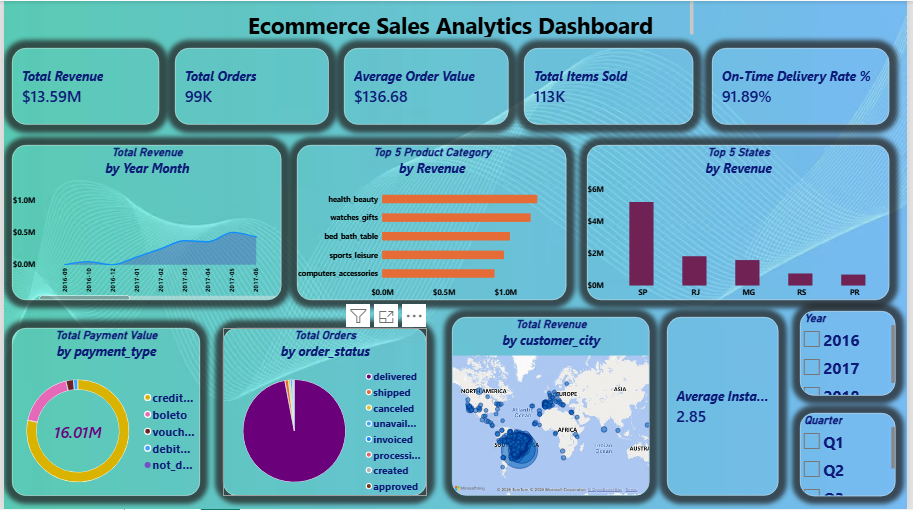

This screenshot's page, from the dashboard's own definition file:
{"tool":"powerbi","page":{"name":"Page 1","canvas":[1920,1080],"ordinal":0},"visuals":[{"type":"cardVisual","fields":{"Data":["All_Measures.Total Revenue"]},"box":[16.7,100,313.3,163.3],"z":0},{"type":"cardVisual","fields":{"Data":["All_Measures.Total Orders"]},"box":[363.3,100,326.7,163.3],"z":1000},{"type":"cardVisual","fields":{"Data":["All_Measures.Average Order Value"]},"box":[723.3,100,350,163.3],"z":2000},{"type":"cardVisual","fields":{"Data":["All_Measures.Total Items Sold"]},"box":[1106.7,100,360,163.3],"z":3000},{"type":"clusteredBarChart","title":"Top 5 Product Category","fields":{"Category":["olist_products_dataset.Product Category"],"Y":["All_Measures.Total Revenue"]},"box":[623.3,306.7,573.3,330],"z":4000},{"type":"donutChart","fields":{"Category":["olist_order_payments_dataset.payment_type"],"Y":["All_Measures.Total Payment Value"]},"box":[16.7,696.7,400,356.7],"z":5000},{"type":"pieChart","fields":{"Category":["olist_orders_dataset.order_status"],"Y":["All_Measures.Total Orders"]},"box":[466.7,696.7,433.3,356.7],"z":6000},{"type":"clusteredColumnChart","title":"Top 5 States","fields":{"Category":["olist_customers_dataset.customer_state"],"Y":["All_Measures.Total Revenue"]},"box":[1240,306.7,643.3,330],"z":7000},{"type":"cardVisual","fields":{"Data":["All_Measures.On-Time Delivery Rate %"]},"box":[1506.7,100,376.7,163.3],"z":8000},{"type":"lineChart","fields":{"Category":["Dim_Calendar.Year Month"],"Y":["All_Measures.Total Revenue"]},"box":[16.7,306.7,573.3,330],"z":9000},{"type":"map","fields":{"Category":["olist_customers_dataset.customer_city"],"Size":["All_Measures.Total Revenue"]},"box":[953.3,673.3,420,380],"z":10000},{"type":"slicer","fields":{"Values":["Dim_Calendar.Year"]},"box":[1693.3,660,203.3,180],"z":11000},{"type":"cardVisual","fields":{"Data":["All_Measures.Average Installments"]},"box":[1410,673.3,236.7,380],"z":12000},{"type":"slicer","fields":{"Values":["Dim_Calendar.Quarter"]},"box":[1693.3,876.7,203.3,176.7],"z":13000},{"type":"textbox","box":[440,0,1026.7,76.7],"z":14000}]}

Visuals, with their boxes in screenshot pixels (x1, y1, x2, y2), scaled from the page's 1920x1080 canvas onto the 913x510 screenshot:
cardVisual - All_Measures.Total Revenue: [left=8, top=47, right=157, bottom=124]
cardVisual - All_Measures.Total Orders: [left=173, top=47, right=328, bottom=124]
cardVisual - All_Measures.Average Order Value: [left=344, top=47, right=510, bottom=124]
cardVisual - All_Measures.Total Items Sold: [left=526, top=47, right=697, bottom=124]
"Top 5 Product Category" clusteredBarChart: [left=296, top=145, right=569, bottom=301]
donutChart - olist_order_payments_dataset.payment_type x All_Measures.Total Payment Value: [left=8, top=329, right=198, bottom=497]
pieChart - olist_orders_dataset.order_status x All_Measures.Total Orders: [left=222, top=329, right=428, bottom=497]
"Top 5 States" clusteredColumnChart: [left=590, top=145, right=896, bottom=301]
cardVisual - All_Measures.On-Time Delivery Rate %: [left=716, top=47, right=896, bottom=124]
lineChart - Dim_Calendar.Year Month x All_Measures.Total Revenue: [left=8, top=145, right=281, bottom=301]
map - olist_customers_dataset.customer_city x All_Measures.Total Revenue: [left=453, top=318, right=653, bottom=497]
slicer - Dim_Calendar.Year: [left=805, top=312, right=902, bottom=397]
cardVisual - All_Measures.Average Installments: [left=670, top=318, right=783, bottom=497]
slicer - Dim_Calendar.Quarter: [left=805, top=414, right=902, bottom=497]
textbox: [left=209, top=0, right=697, bottom=36]
